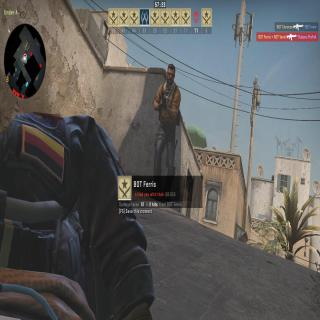T-Body: (151, 64, 181, 202)
T-Head: (166, 63, 176, 86)
